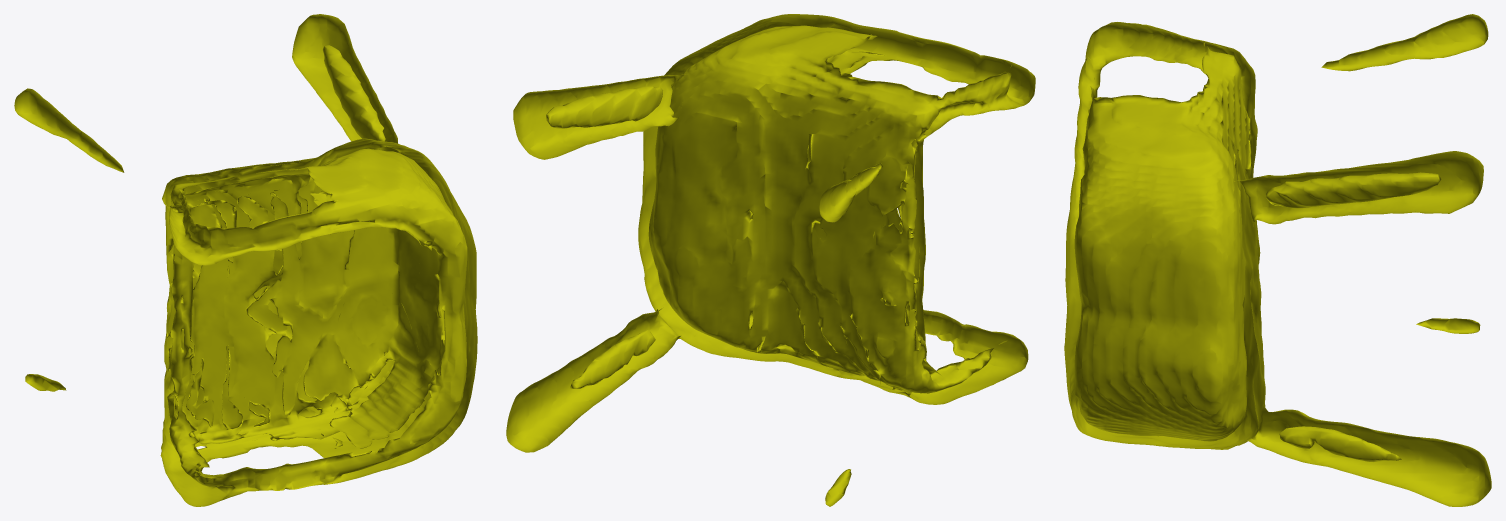
3 views of the same model, side by side, from view 1: azimuth 30°, elevation 25°; view 2: azimuth 150°, elevation 25°; view 3: azimuth 270°, elevation 25° (orthographic). The views are drawn at different scales.
Visible parts, largest first — view 1: world; view 2: world; view 3: world.
Boxes of the visible parts, x1=… form: world: x1=14, y1=14, x2=477, y2=506; world: x1=506, y1=14, x2=1035, y2=506; world: x1=1064, y1=14, x2=1491, y2=506.
Bounding box in the file's own units: 68.77 × 66.55 × 73.27.
